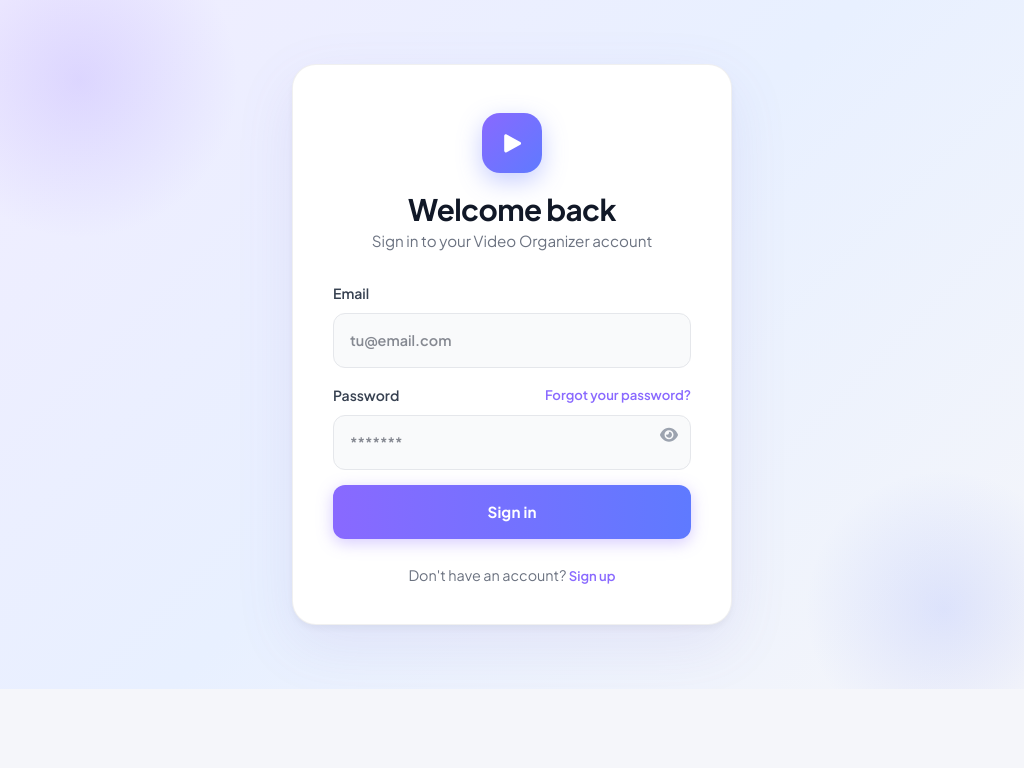
Test: Login component › Password is not valid
Type "12" into the password field labelled "Password" at (512, 442), box [333, 415, 691, 470]
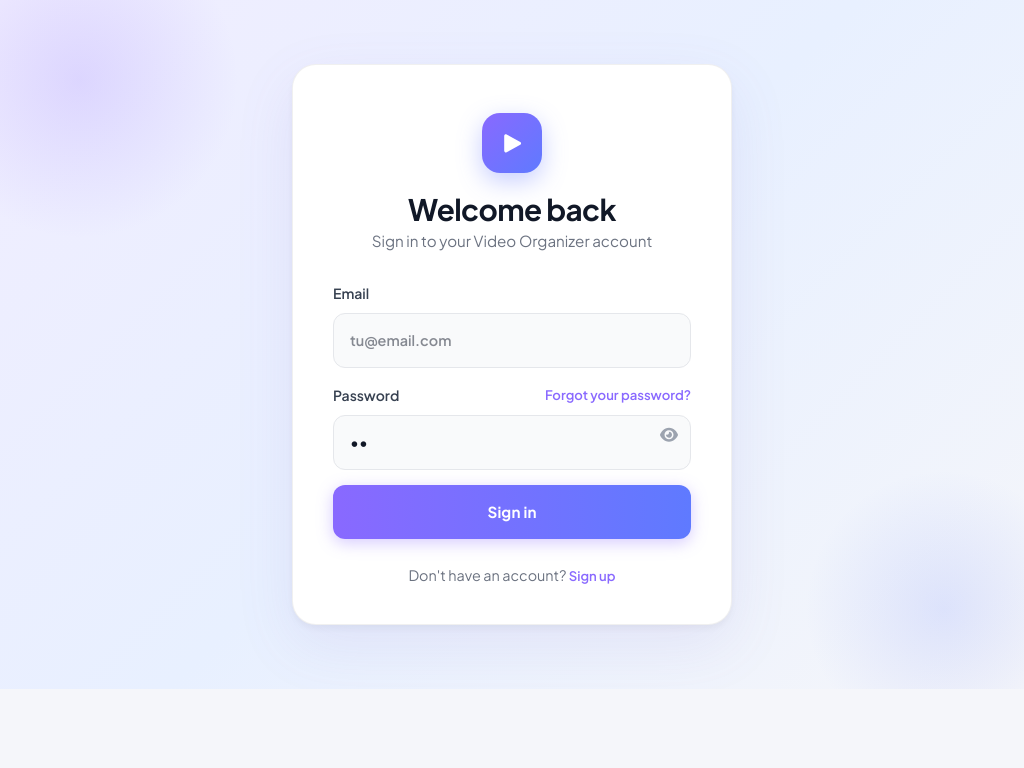
Click the button "Sign in" at (512, 512), box [333, 485, 691, 539]
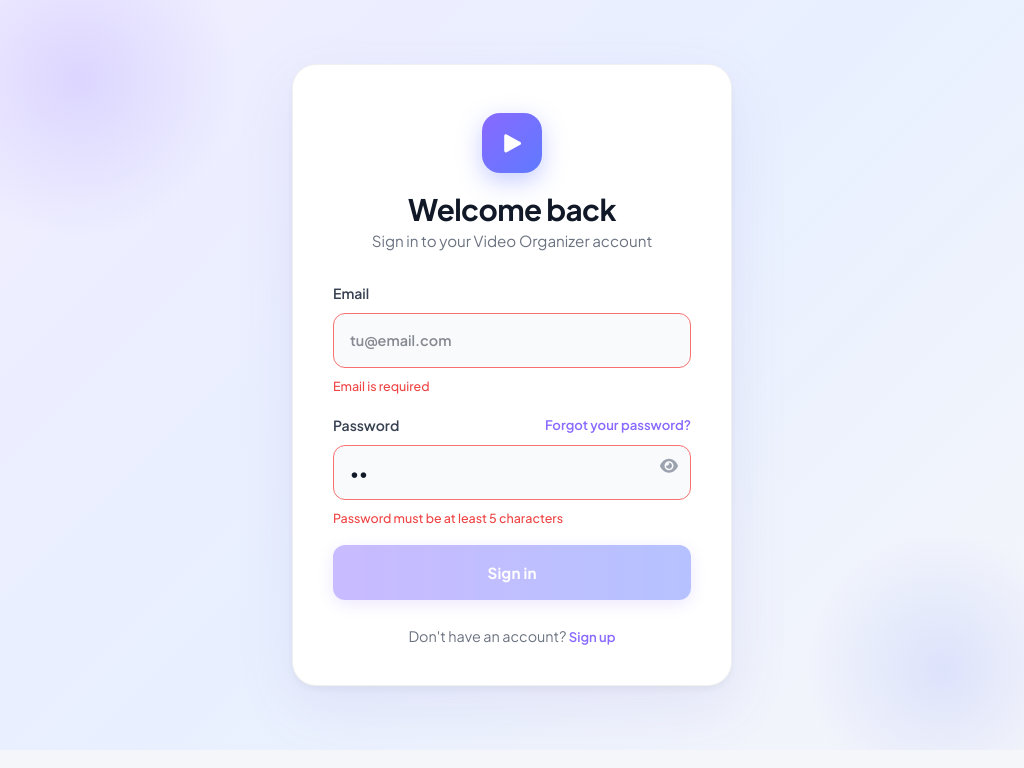
Expected: the text "Password must be at least 5 characters" is shown, [333, 510, 563, 526]
